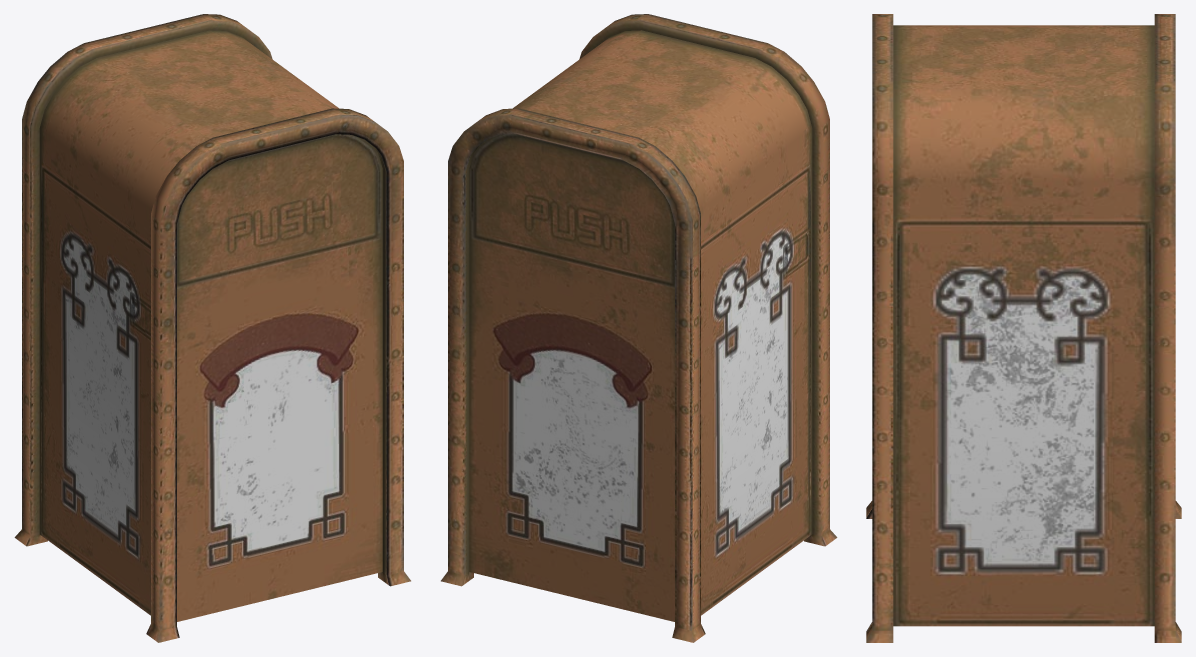
The model's file is scene - Copie.glb.
3 renders of one model, left to right at view 1: azimuth 30°, elevation 25°; view 2: azimuth 150°, elevation 25°; view 3: azimuth 270°, elevation 25°, orthographic. The views are drawn at different scales.
Parts seen in each view (by area): view 1: SM_Trash; view 2: SM_Trash; view 3: SM_Trash.
Part boxes in pixels (x1,y1,x2,y2): SM_Trash: (14, 14, 410, 642); SM_Trash: (441, 14, 837, 642); SM_Trash: (866, 14, 1181, 642).
Size of the model in its own units: 63.05 by 114 by 62.15.
Materials: 1 (1 with a texture image).
